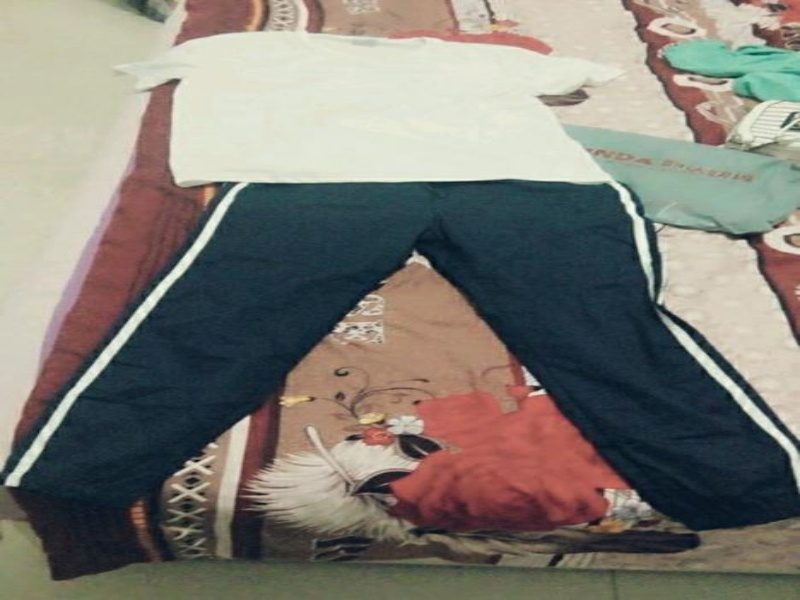short_sleeved_shirt: (111, 28, 632, 192)
trousers: (0, 161, 798, 583)
